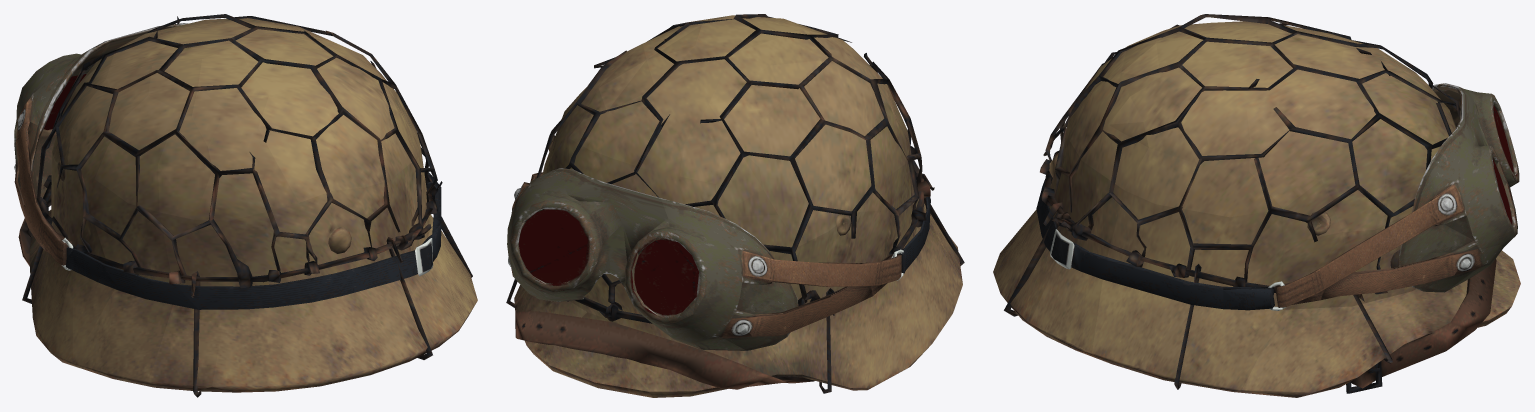
The model's file is AntiqueHelmetGoggles_Ground.fbx.
The picture shows the model from 3 angles, left to right: view 1: azimuth 30°, elevation 25°; view 2: azimuth 150°, elevation 25°; view 3: azimuth 270°, elevation 25°; orthographic projection.
Parts seen in each view (by area): view 1: AntiqueHelmet; view 2: AntiqueHelmet; view 3: AntiqueHelmet.
Boxes of the visible parts, x1,y1,x2,y2 form: AntiqueHelmet: (14, 14, 477, 397); AntiqueHelmet: (506, 14, 964, 397); AntiqueHelmet: (993, 14, 1520, 397).
Bounding box in the file's own units: 0.1437 × 0.1034 × 0.1736.
